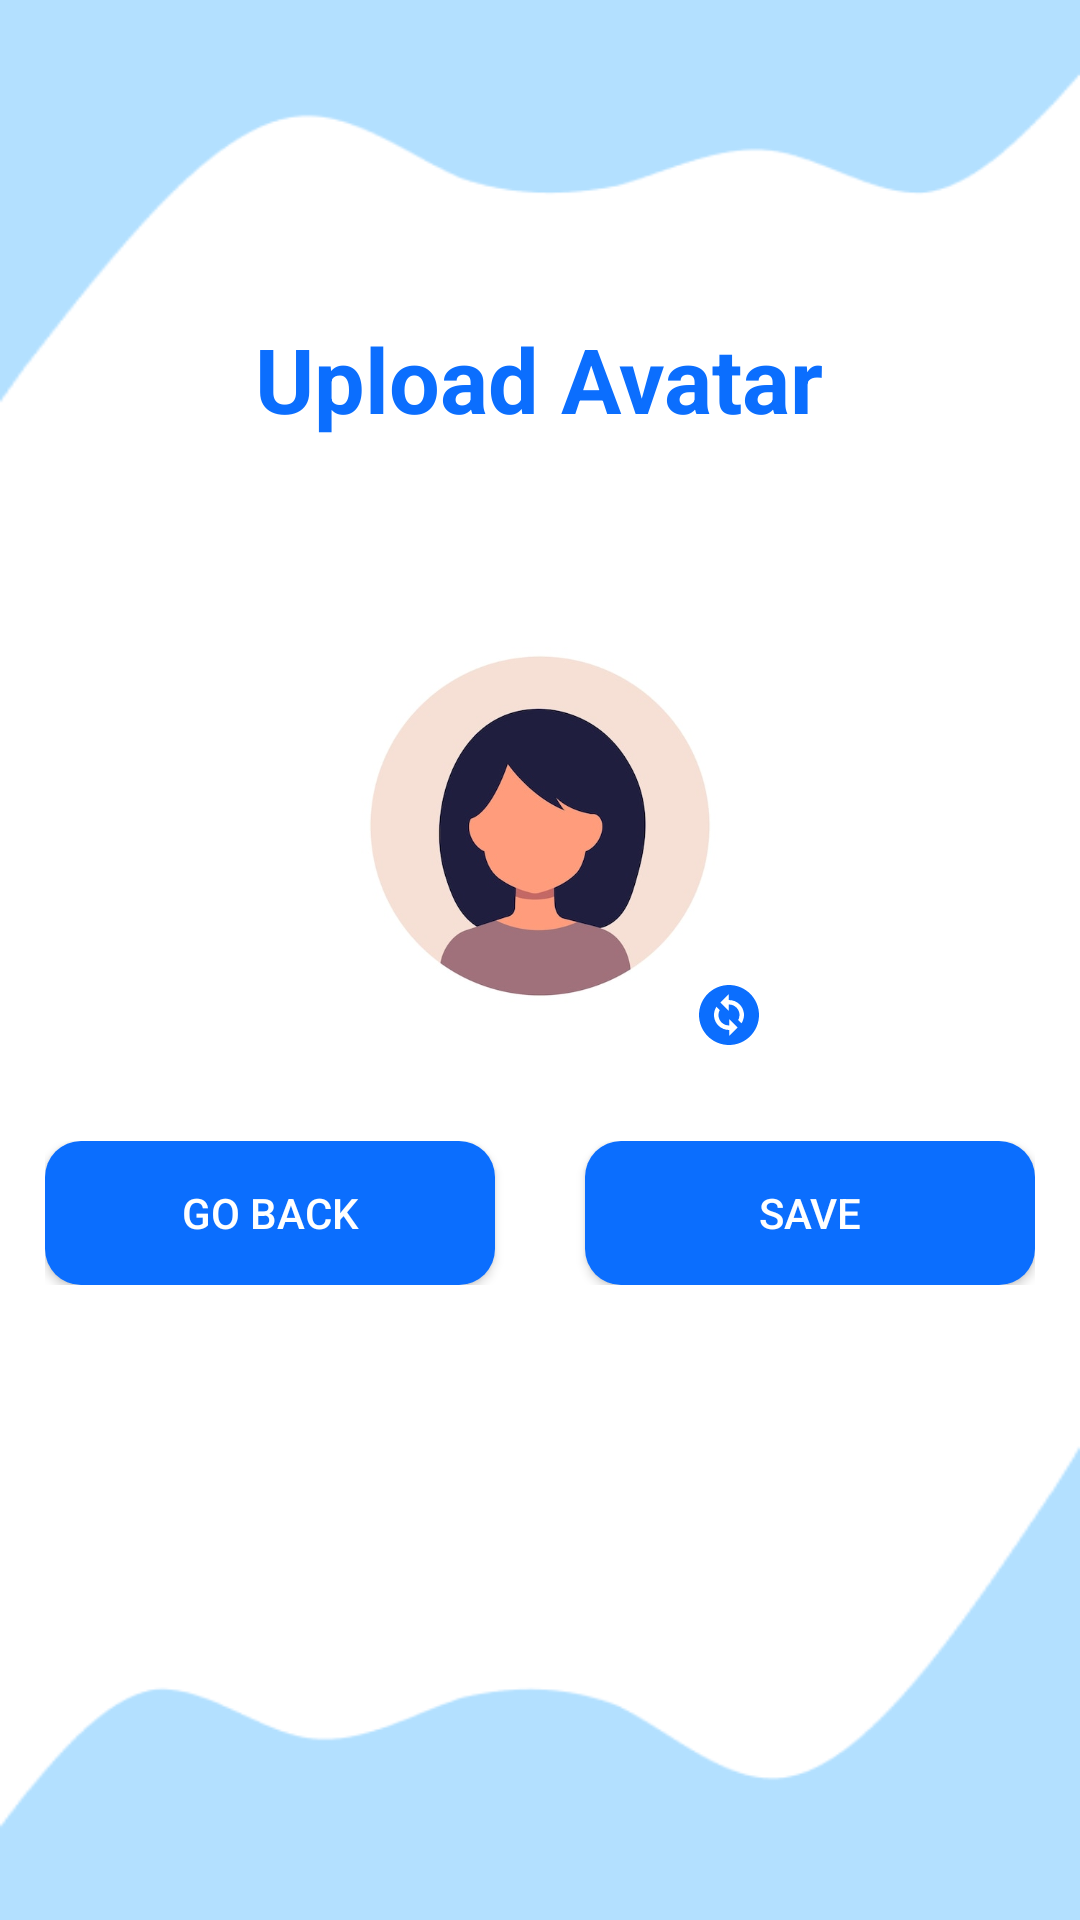

Locate icon controls on the screen. Image size 1080w x 1920h, boxes as region(x1, y1, x2, y2).
change: region(699, 985, 759, 1045)
